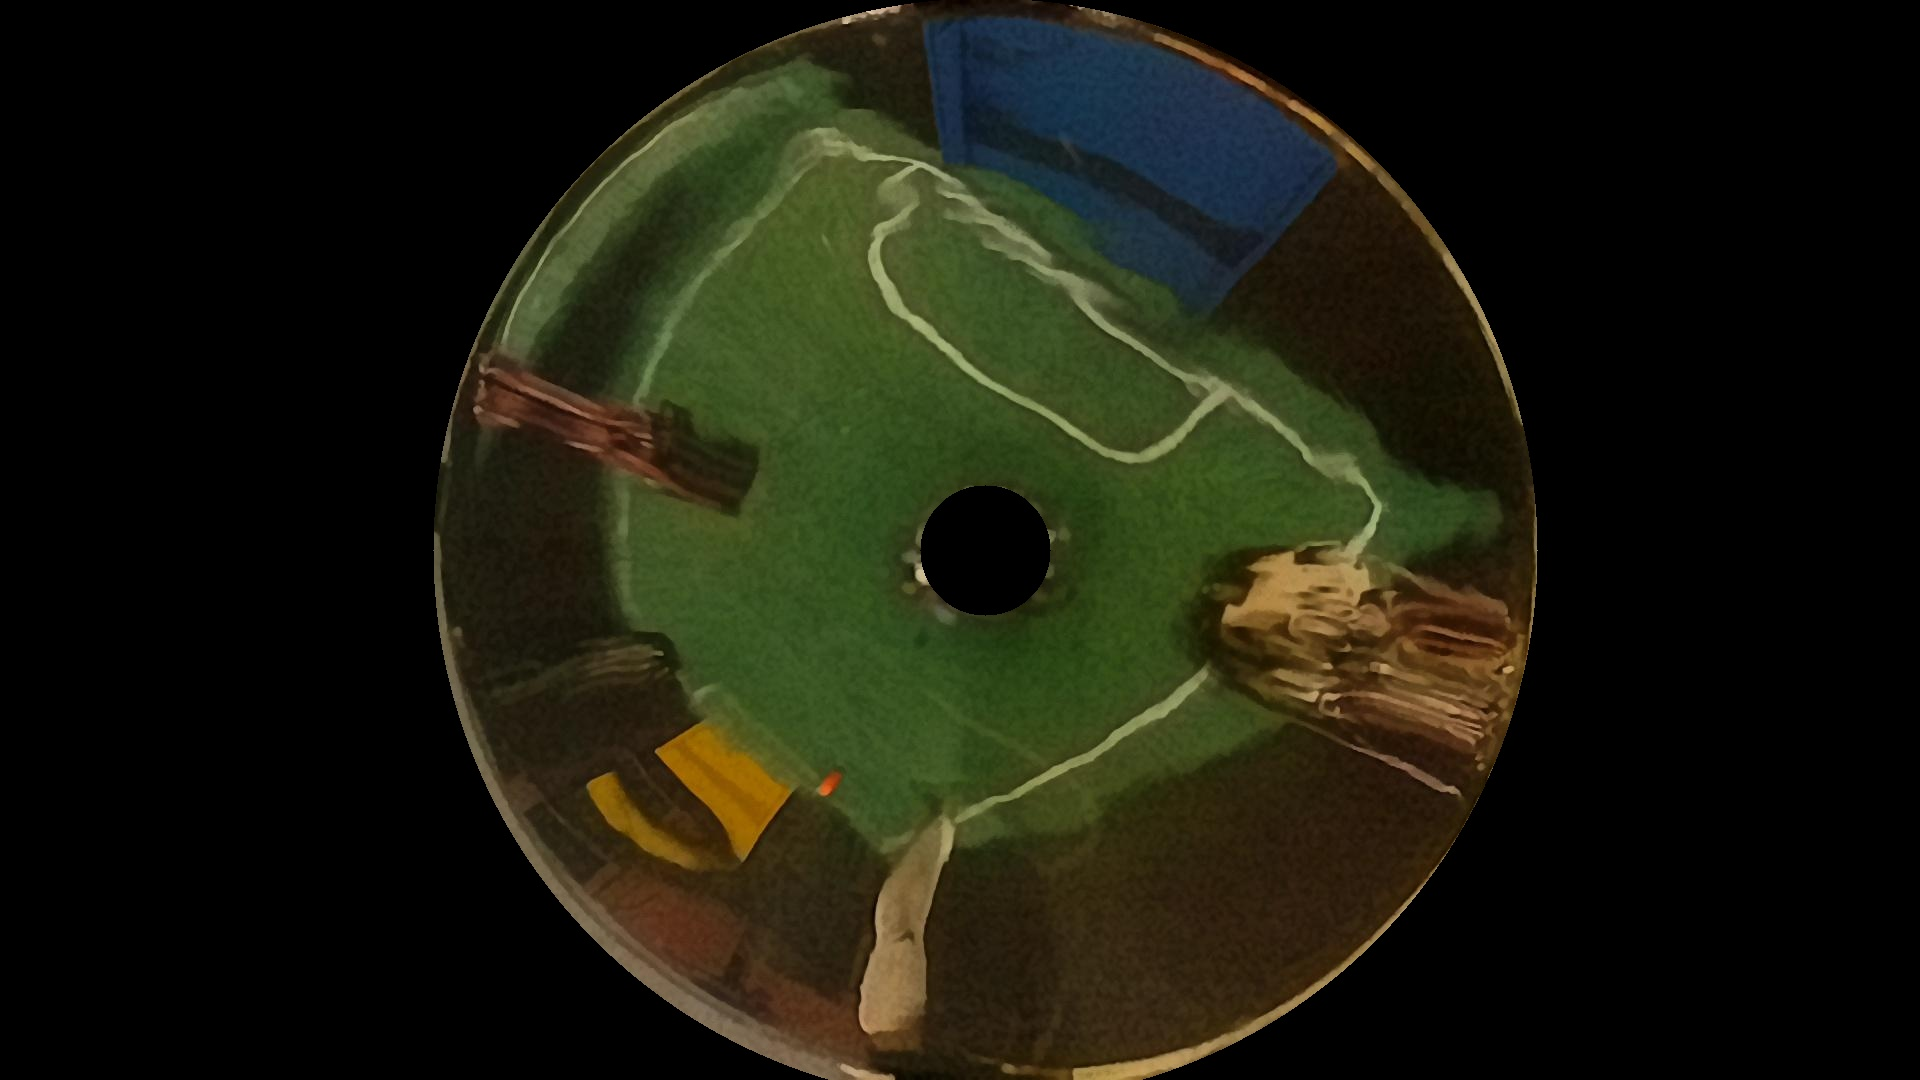ball: (810, 770, 840, 807)
blue-goal: (923, 7, 1309, 315)
robots: (1195, 492, 1503, 777), (476, 342, 758, 505), (485, 617, 688, 712)
yellow-goal: (575, 724, 790, 872)
